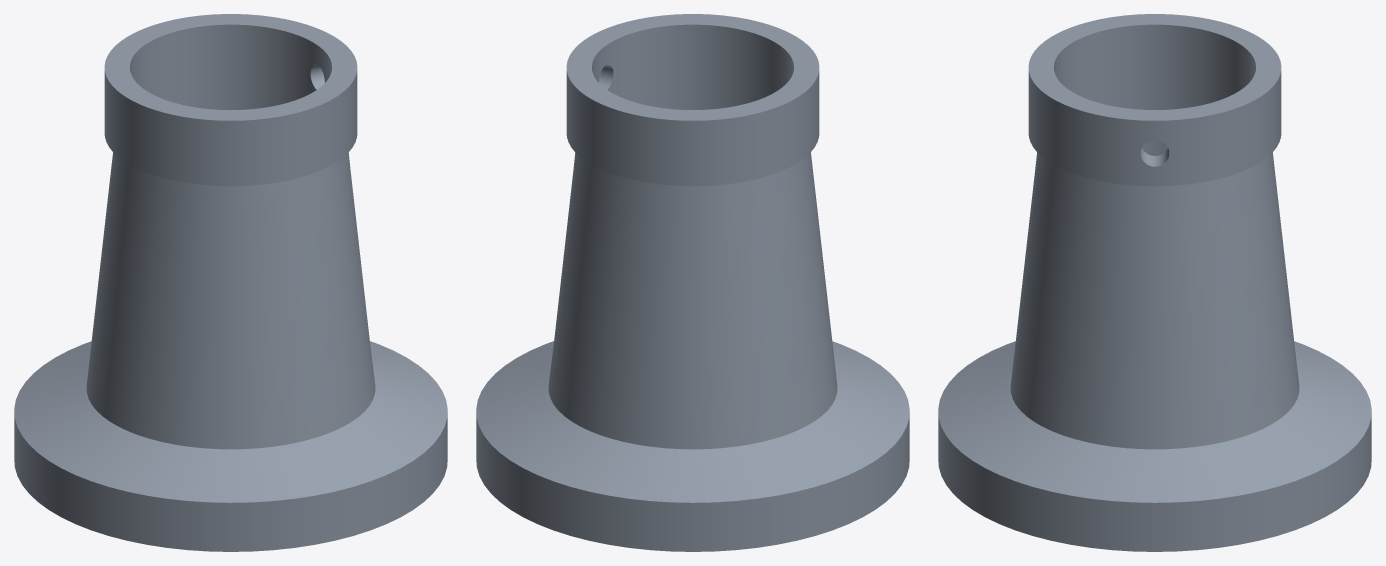
The model's file is step_03.glb.
3 views of the same model, side by side, from view 1: azimuth 30°, elevation 25°; view 2: azimuth 150°, elevation 25°; view 3: azimuth 270°, elevation 25° (orthographic).
Parts seen in each view (by area): view 1: part__body; view 2: part__body; view 3: part__body.
Boxes of the visible parts, box(x1,y1,x2,y2) form: part__body: box(14, 14, 447, 551); part__body: box(476, 14, 909, 551); part__body: box(938, 14, 1371, 551).
Size of the model in its own units: 120 by 120 by 120.
